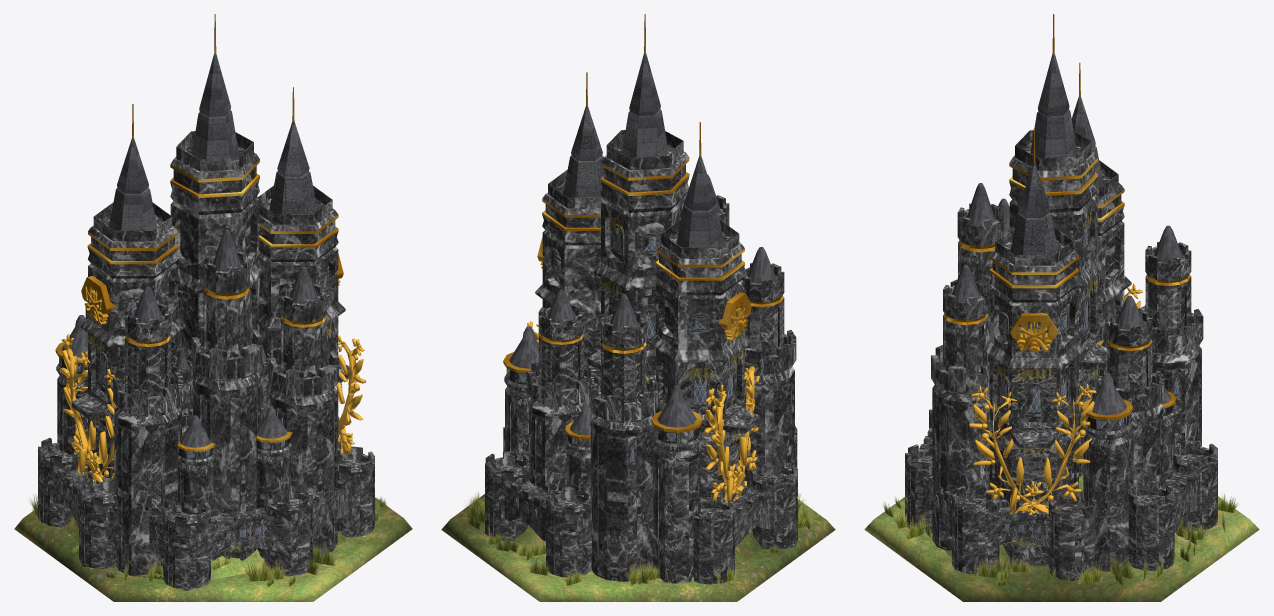
The picture shows the model from 3 angles, left to right: view 1: azimuth 30°, elevation 25°; view 2: azimuth 150°, elevation 25°; view 3: azimuth 270°, elevation 25°; orthographic projection.
Visible parts, largest first — view 1: castles1; view 2: castles1; view 3: castles1.
Boxes of the visible parts, left/top/right/bottom form: castles1: left=14, top=14, right=412, bottom=601; castles1: left=441, top=14, right=835, bottom=601; castles1: left=864, top=14, right=1259, bottom=601.
Bounding box in the file's own units: 1.73 × 2.87 × 2.
5 materials, 4 textured.
